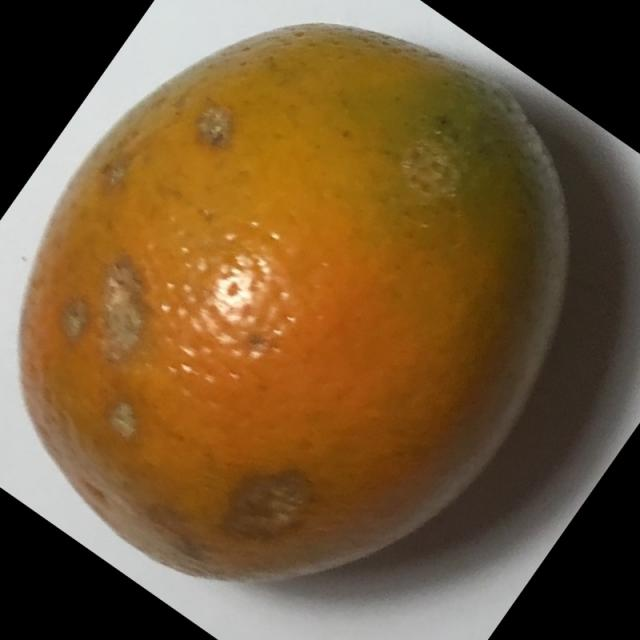canker: (10, 16, 585, 618)
